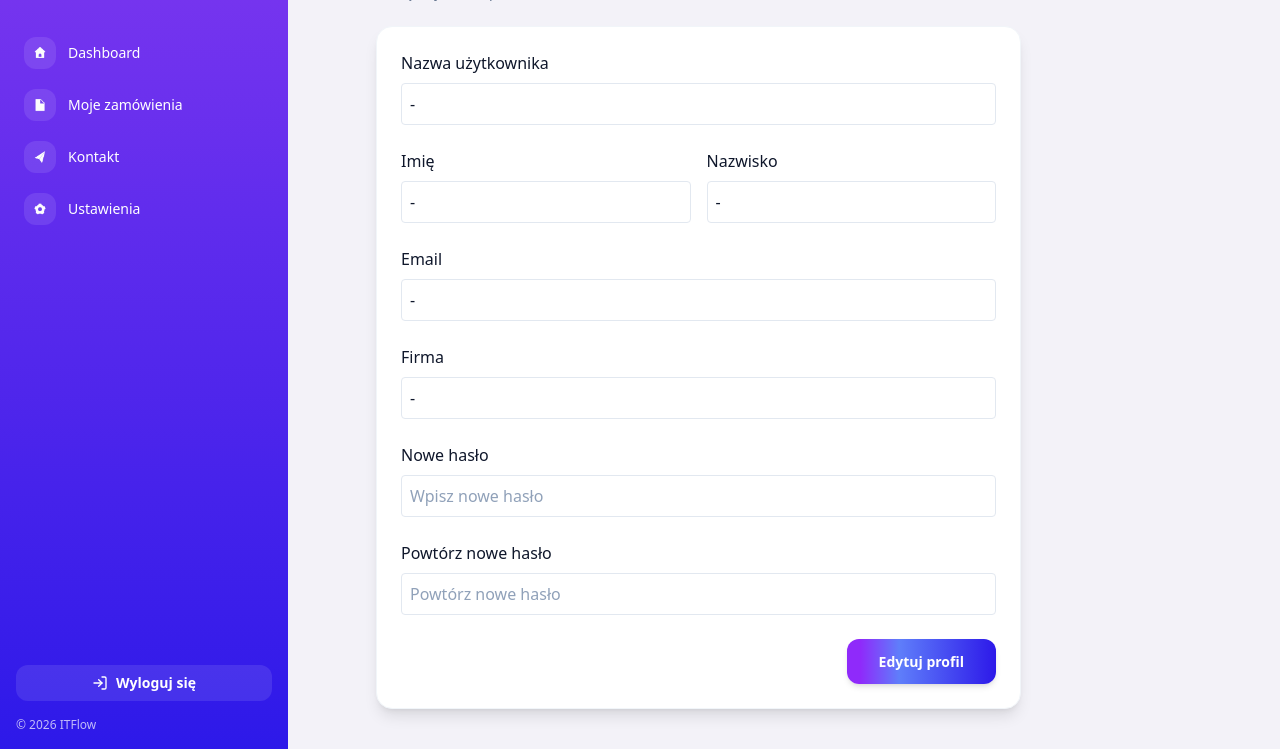
Test: UserSettings › toggles edit mode for profile fields
(page scrolled)
Expected: the field below "Nazwa użytkownika" is disabled, [401, 83, 996, 125]
Expected: the field below "Nazwa użytkownika" holds "-", [401, 83, 996, 125]
Click the button "Edytuj profil" at [921, 662], box [847, 639, 996, 684]
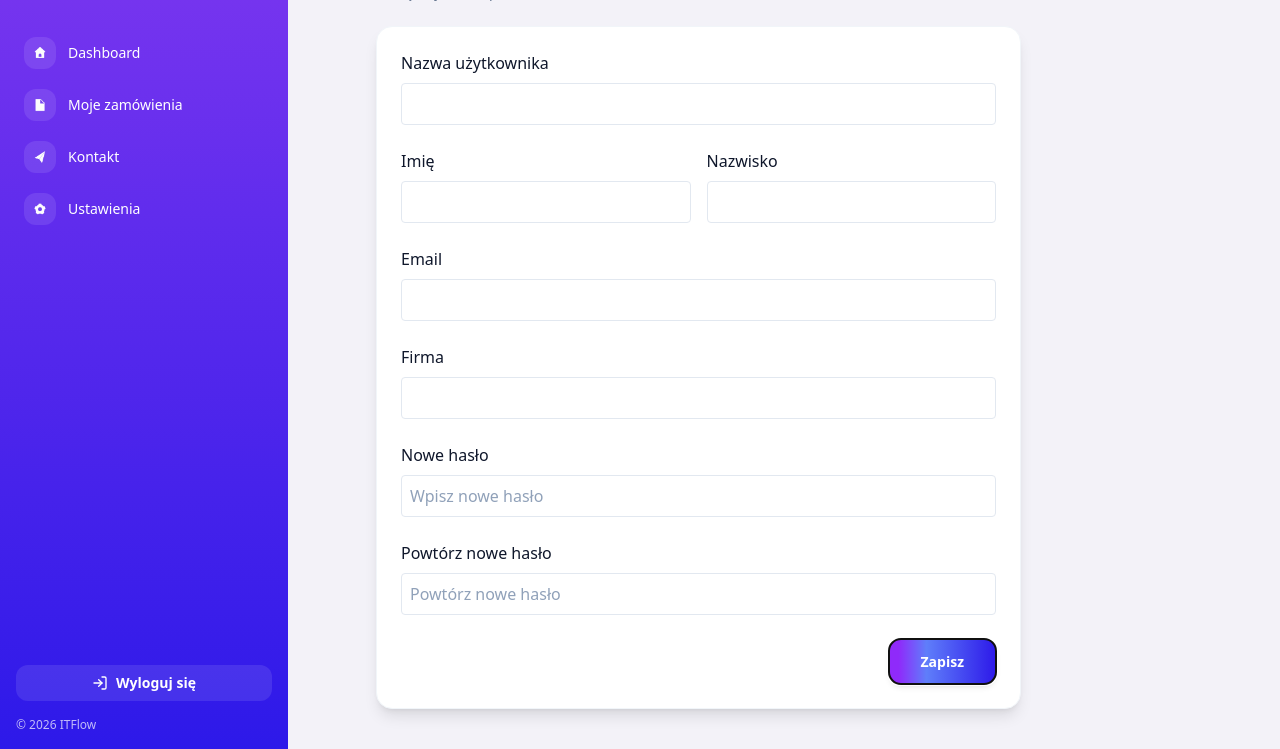
Expected: the field below "Nazwa użytkownika" is enabled, [401, 83, 996, 125]
Now the button "Zapisz" is shown, box [888, 639, 996, 684]
